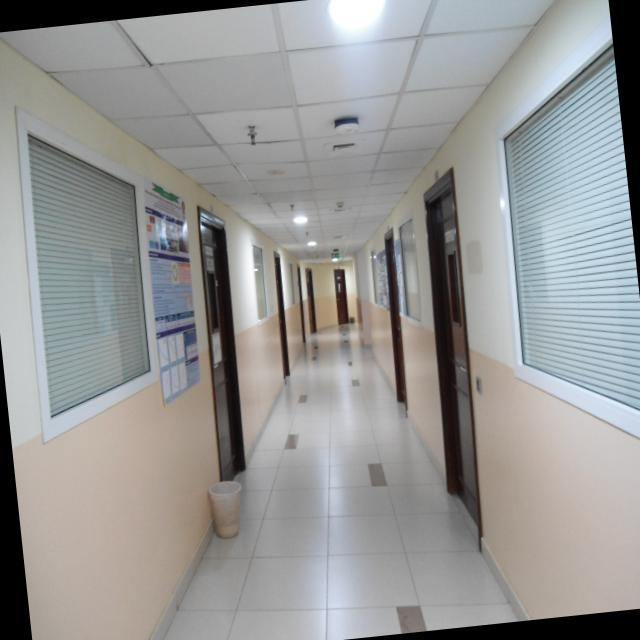door: (416, 164, 494, 541), (195, 200, 249, 490), (384, 229, 407, 406), (334, 268, 348, 326)
dustbin: (204, 477, 246, 543)
path: (163, 324, 516, 640)
